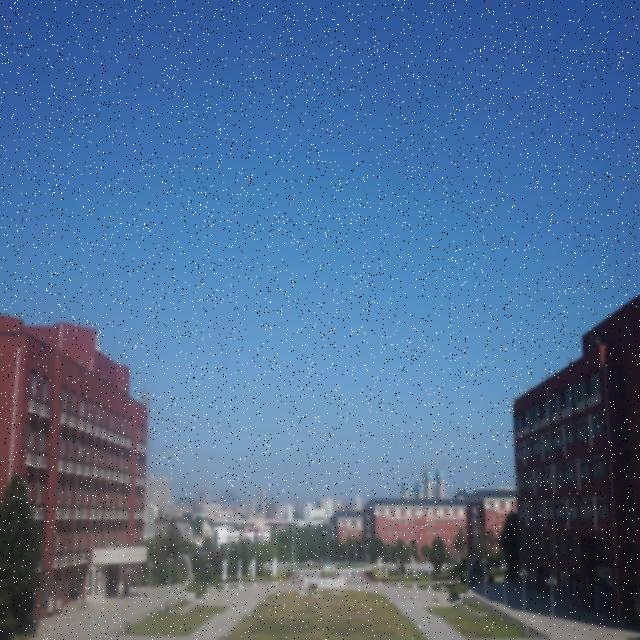UAV: (307, 582, 319, 590)
